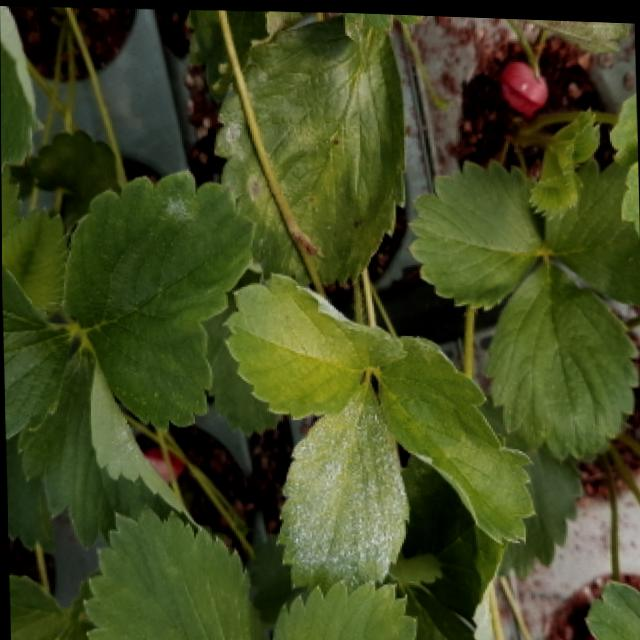Powdery Mildew Leaf: (61, 166, 257, 430), (16, 336, 199, 547), (374, 329, 535, 542), (273, 369, 408, 598), (221, 271, 408, 417), (583, 575, 640, 640)
